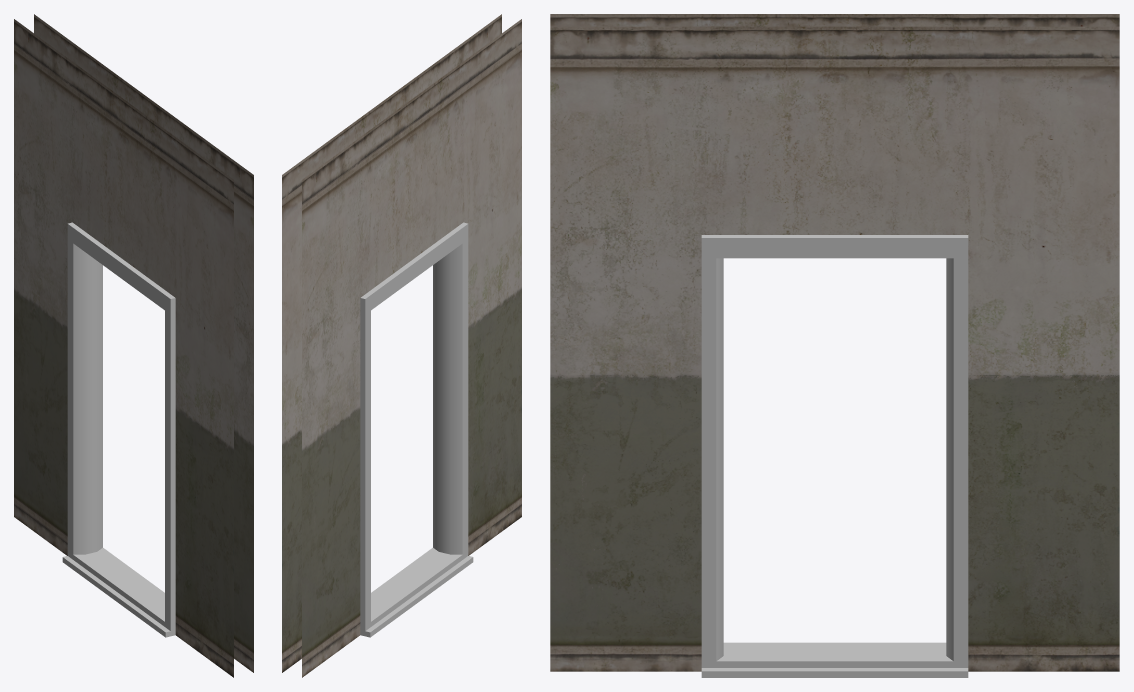
File: wall_doorsmall_tile_3m.fbx
3 views of the same model, side by side, from view 1: azimuth 30°, elevation 25°; view 2: azimuth 150°, elevation 25°; view 3: azimuth 270°, elevation 25° (orthographic). The views are drawn at different scales.
Parts seen in each view (by area): view 1: wall_doorsmall_tile_3m; view 2: wall_doorsmall_tile_3m; view 3: wall_doorsmall_tile_3m.
Part boxes in pixels (<box>): wall_doorsmall_tile_3m: <box>14,14,253,677</box>; wall_doorsmall_tile_3m: <box>282,14,521,677</box>; wall_doorsmall_tile_3m: <box>550,14,1119,677</box>.
Size of the model in its own units: 0.3125 by 3.75 by 3.
